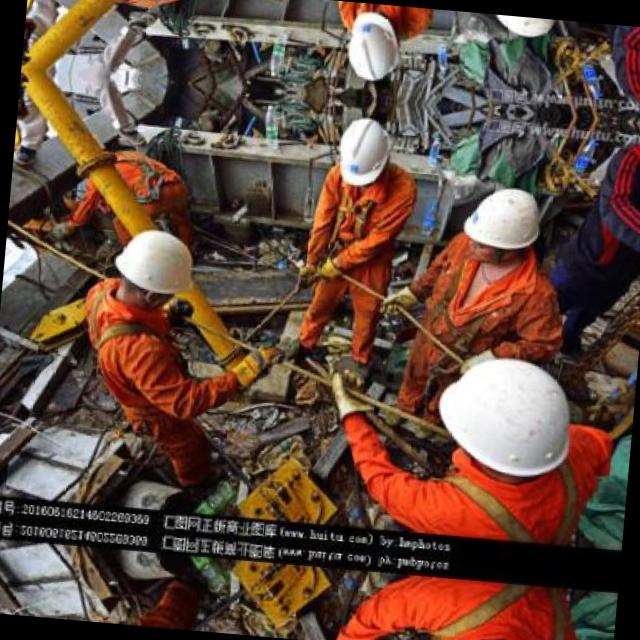helmet: (406, 340, 602, 509), (102, 218, 204, 312), (452, 178, 550, 272), (392, 609, 579, 640), (328, 112, 394, 192), (338, 5, 402, 85), (472, 12, 566, 46)
